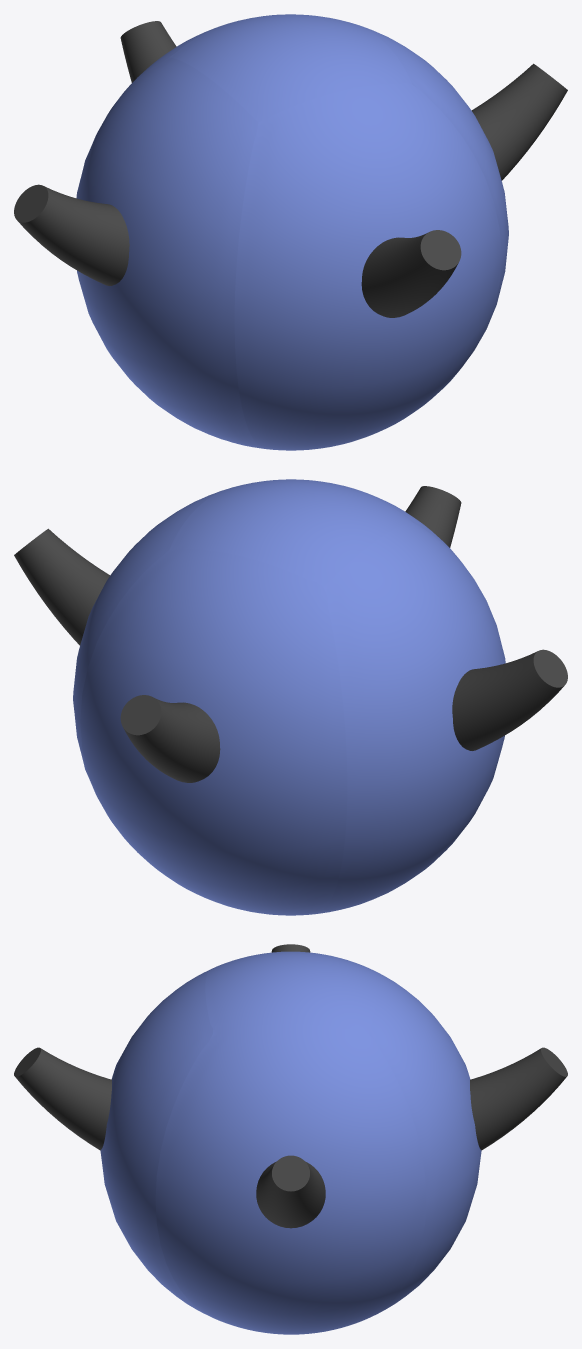
3 renders of one model, top to bottom at view 1: azimuth 30°, elevation 25°; view 2: azimuth 150°, elevation 25°; view 3: azimuth 270°, elevation 25°, orthographic. The views are drawn at different scales.
Parts seen in each view (by area): view 1: Body(Spherical)+Colour(6070287_6070287)+Pattern(Solid)+_0b19, Arm002, Arm004, Arm001, Arm003; view 2: Body(Spherical)+Colour(6070287_6070287)+Pattern(Solid)+_0b19, Arm002, Arm003, Arm001, Arm004; view 3: Body(Spherical)+Colour(6070287_6070287)+Pattern(Solid)+_0b19, Arm003, Arm004, Arm001.
Boxes of the visible parts, x1,y1,x2,y2 form: Body(Spherical)+Colour(6070287_6070287)+Pattern(Solid)+_0b19: [76, 14, 508, 450]; Arm002: [14, 184, 129, 285]; Arm004: [361, 230, 461, 317]; Arm001: [471, 63, 567, 180]; Arm003: [120, 21, 176, 82]; Body(Spherical)+Colour(6070287_6070287)+Pattern(Solid)+_0b19: [73, 479, 505, 915]; Arm002: [452, 649, 567, 750]; Arm003: [120, 695, 220, 782]; Arm001: [14, 528, 109, 645]; Arm004: [405, 486, 461, 547]; Body(Spherical)+Colour(6070287_6070287)+Pattern(Solid)+_0b19: [100, 951, 481, 1334]; Arm003: [470, 1047, 567, 1150]; Arm004: [14, 1047, 111, 1150]; Arm001: [256, 1155, 325, 1228].
Size of the model in its own units: 1.47 by 1.02 by 1.47.
Materials: 2 (2 with a texture image).
